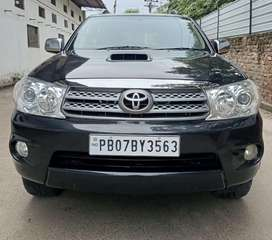PB07BY3563: (89, 135, 179, 155)
